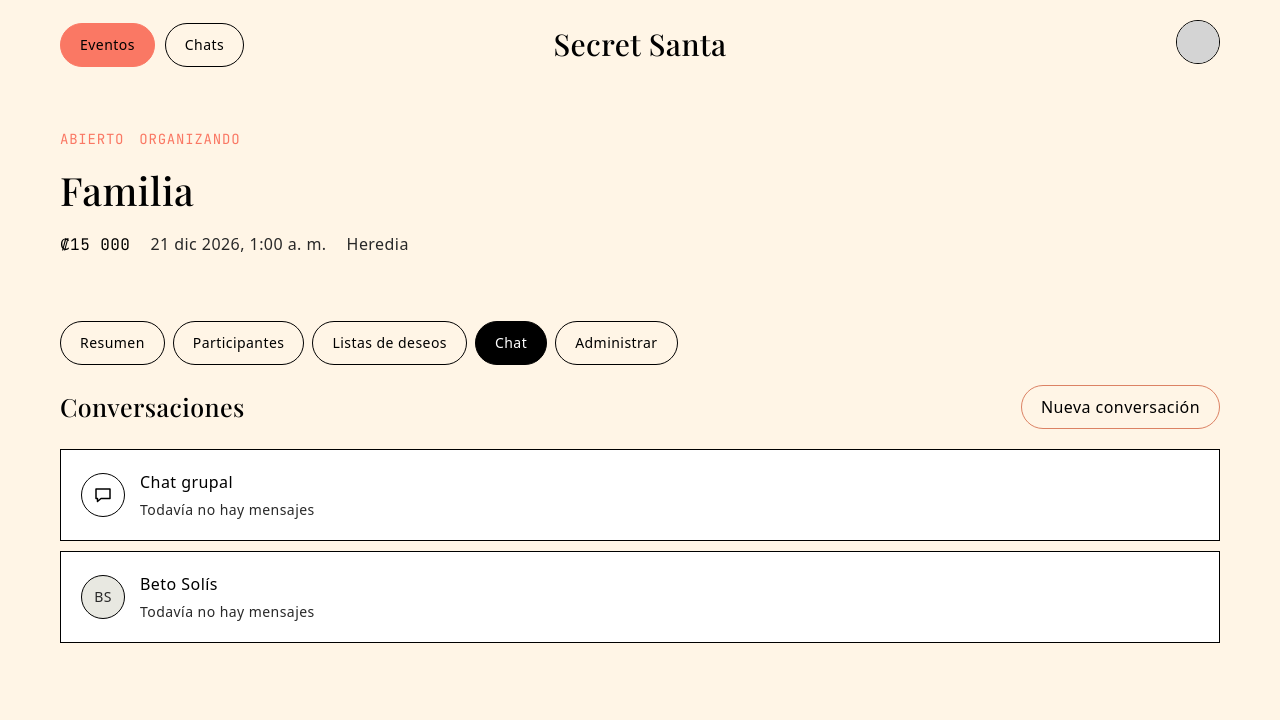
Scenario: Event › Chat tab › New conversation: pick someone (never me), Anonymous, Start → the thread opens
expect the heading "Conversaciones" is shown: met, box x1=60 y1=388 x2=245 y2=425
What coordinates should you click on to do the following:
click the button "Nueva conversación"
I would click on:
 (1120, 406)
Its box is x1=1021 y1=384 x2=1220 y2=428.
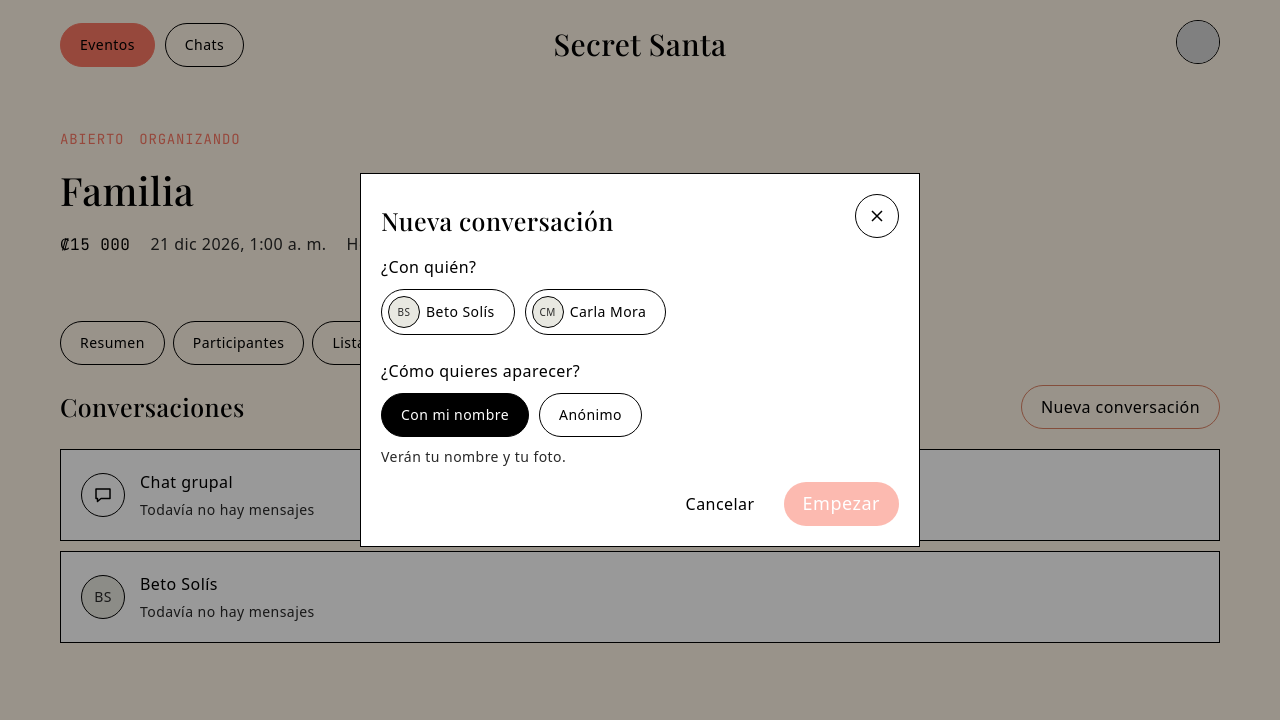
expect the button "Empezar" is disabled: met, box x1=784 y1=482 x2=899 y2=526
What coordinates should you click on to do the following:
click the button "Anónimo"
I would click on:
 (590, 415)
Its box is x1=539 y1=393 x2=642 y2=437.
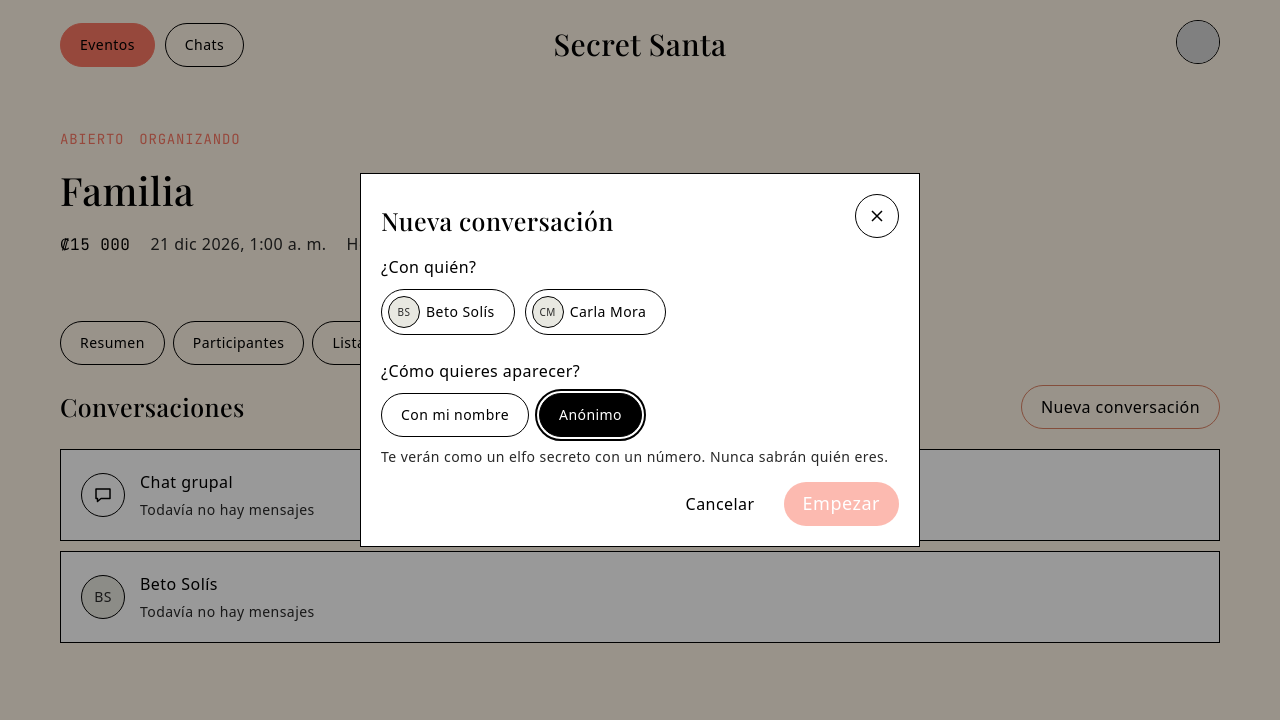
expect the text "Te verán como un elfo secreto" is shown: met, box x1=381 y1=447 x2=888 y2=466
What coordinates should you click on to do the following:
click the button "BS Beto Solís"
I would click on:
 (448, 312)
Its box is x1=381 y1=289 x2=515 y2=335.
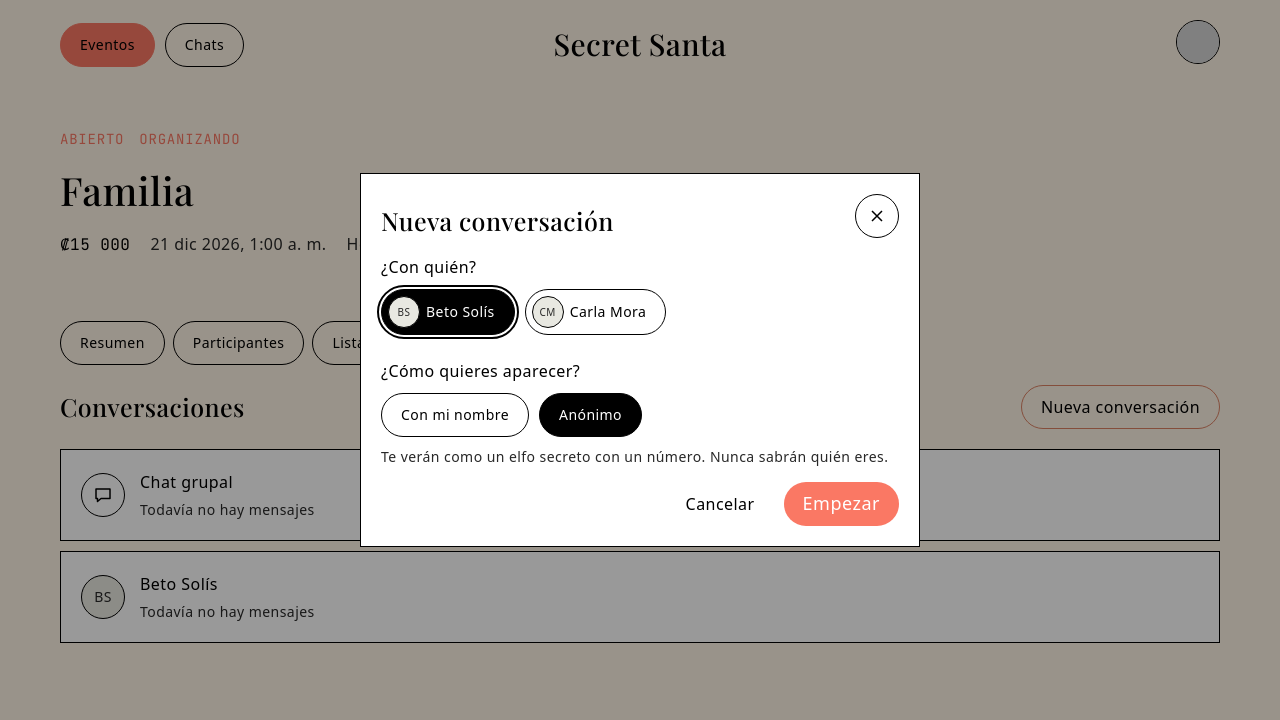
What coordinates should you click on to do the following:
click the button "Empezar"
I would click on:
 (841, 504)
Its box is x1=784 y1=482 x2=899 y2=526.
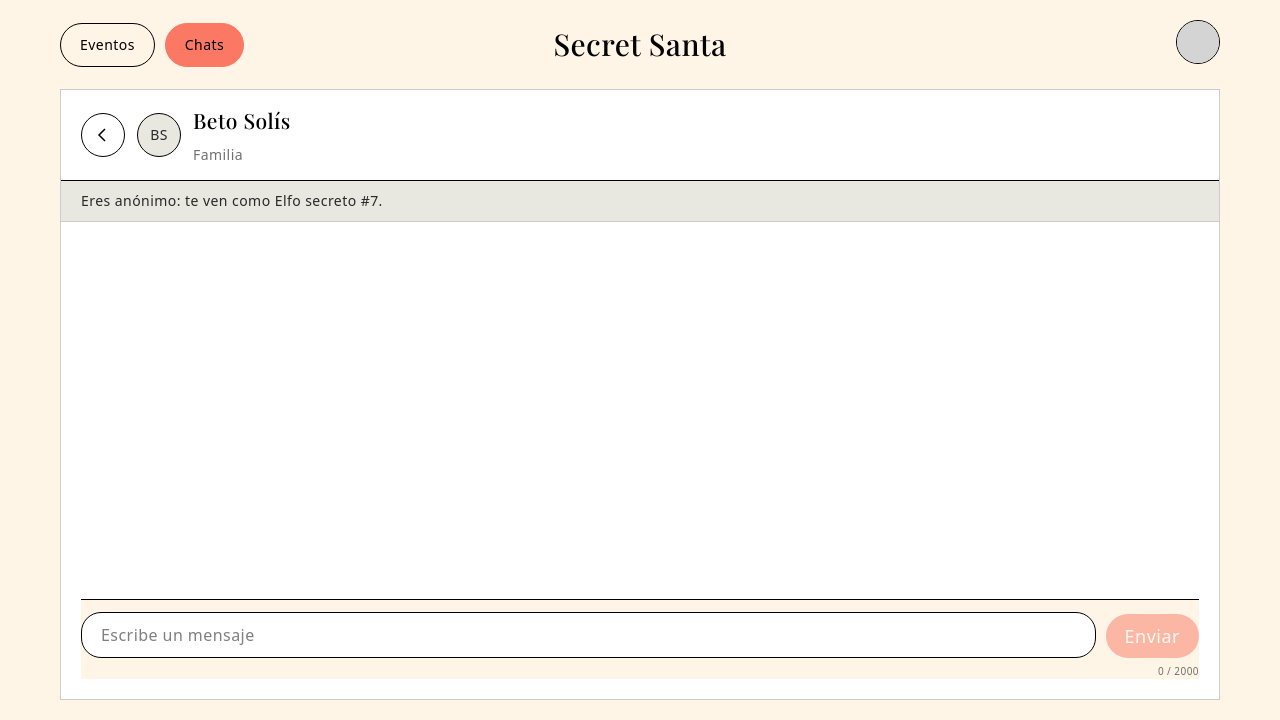
expect the text "Eres anónimo: te ven como Elfo secreto #7." is shown: met, box x1=61 y1=180 x2=1219 y2=222
